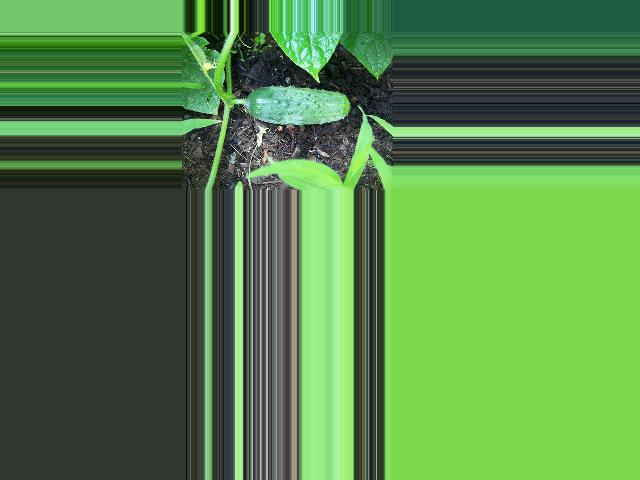cucumber: (245, 86, 351, 125)
